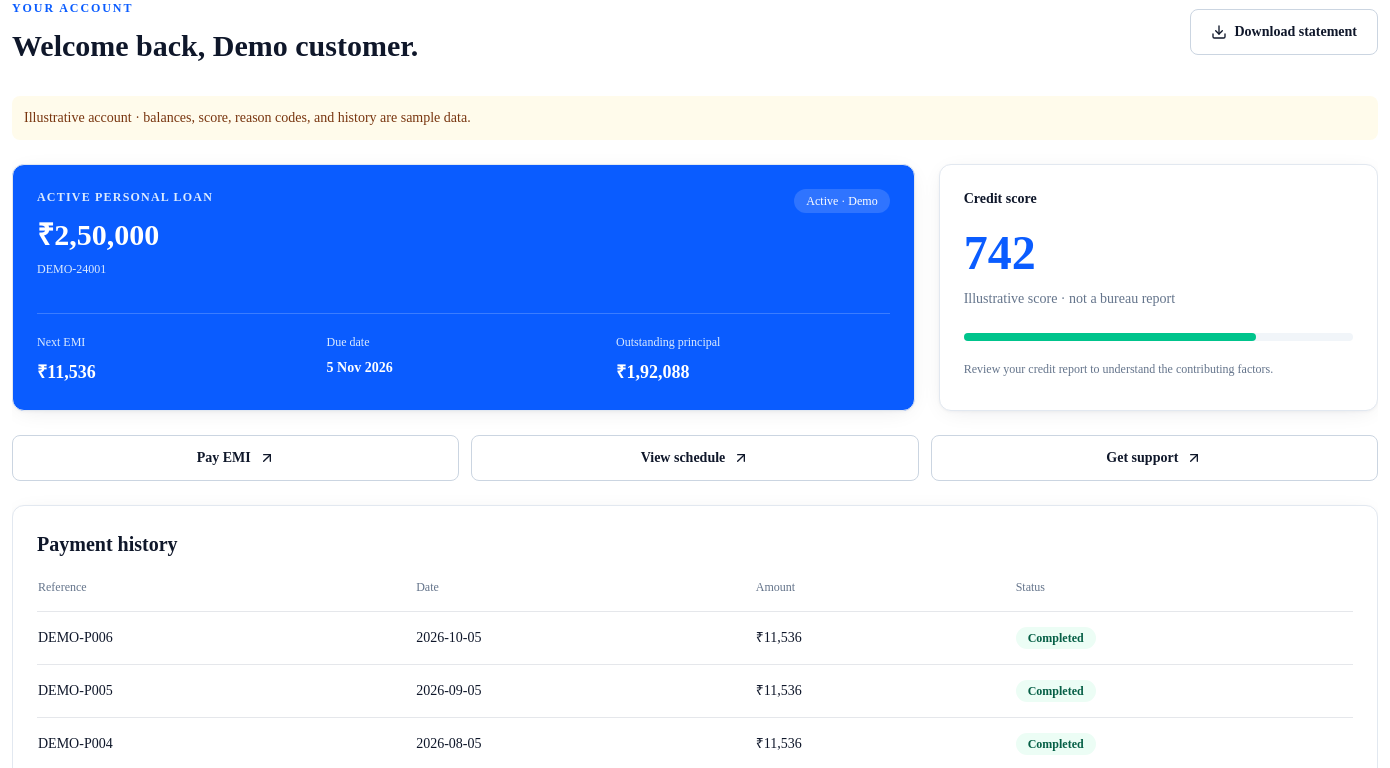
Test: overview shows sample balances and downloads the statement
expect the text "742" is shown: met, box [964,226,1036,279]
Click the button "Download statement": x=1284, y=32 [1190,9,1378,55]
(page scrolled)
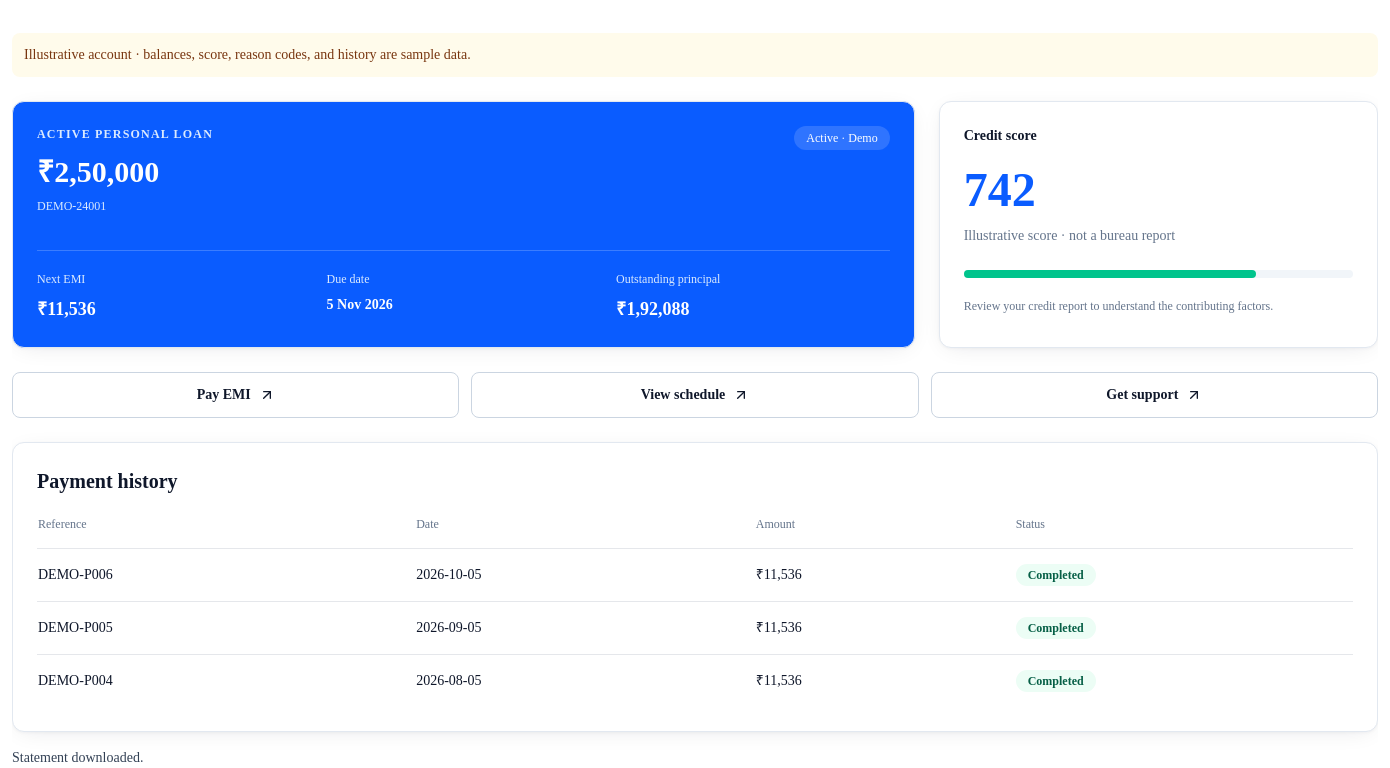
expect the message reads "Statement downloaded.": met, box [12,750,143,765]
